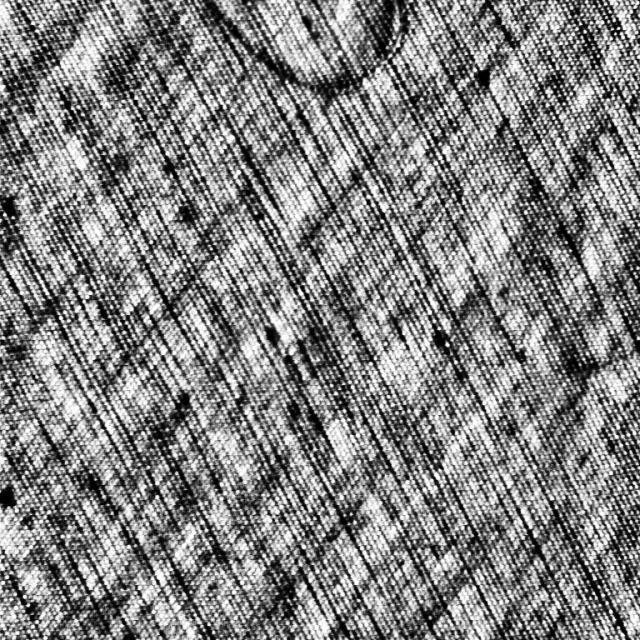gray stitch: (198, 0, 408, 99)
